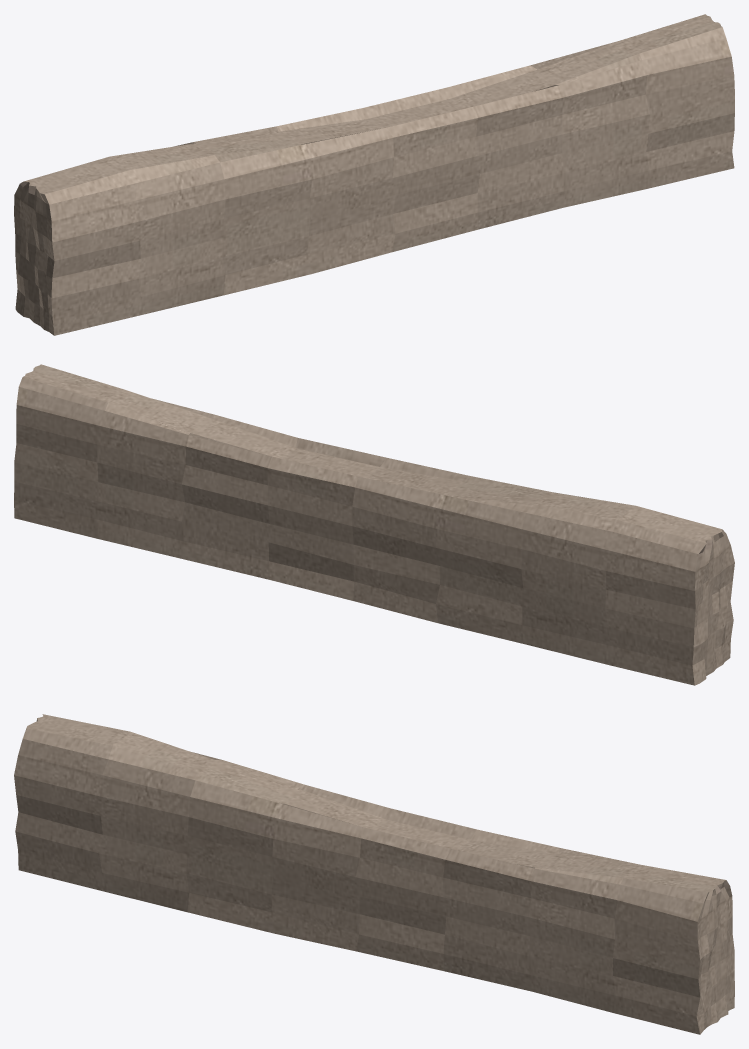
3 views of the same model, one above another, from view 1: azimuth 30°, elevation 25°; view 2: azimuth 150°, elevation 25°; view 3: azimuth 330°, elevation 25° (orthographic).
Parts seen in each view (by area): view 1: low; view 2: low; view 3: low.
Boxes of the visible parts, x1,y1,x2,y2 form: low: [14, 14, 734, 335]; low: [14, 364, 734, 685]; low: [14, 714, 734, 1034].
Bounding box in the file's own units: 4.02 × 0.7819 × 0.4214.
Materials: 1 (1 with a texture image).
